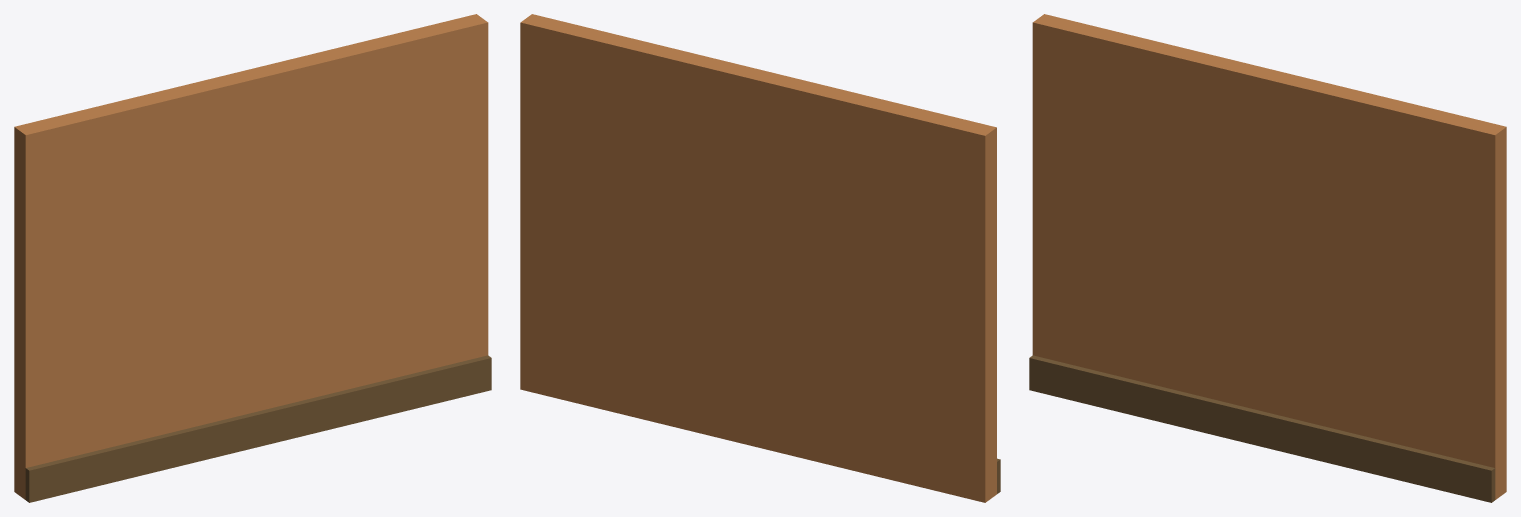
The model's file is C_Wall_Big.fbx.
3 renders of one model, left to right at view 1: azimuth 30°, elevation 25°; view 2: azimuth 150°, elevation 25°; view 3: azimuth 330°, elevation 25°, orthographic.
Parts seen in each view (by area): view 1: C_Wall_Big; view 2: C_Wall_Big; view 3: C_Wall_Big.
Boxes of the visible parts, <box> form: C_Wall_Big: <box>14,14,491,502</box>; C_Wall_Big: <box>520,14,1000,502</box>; C_Wall_Big: <box>1029,14,1506,502</box>.
Bounding box in the file's own units: 3000 × 170 × 2264.
